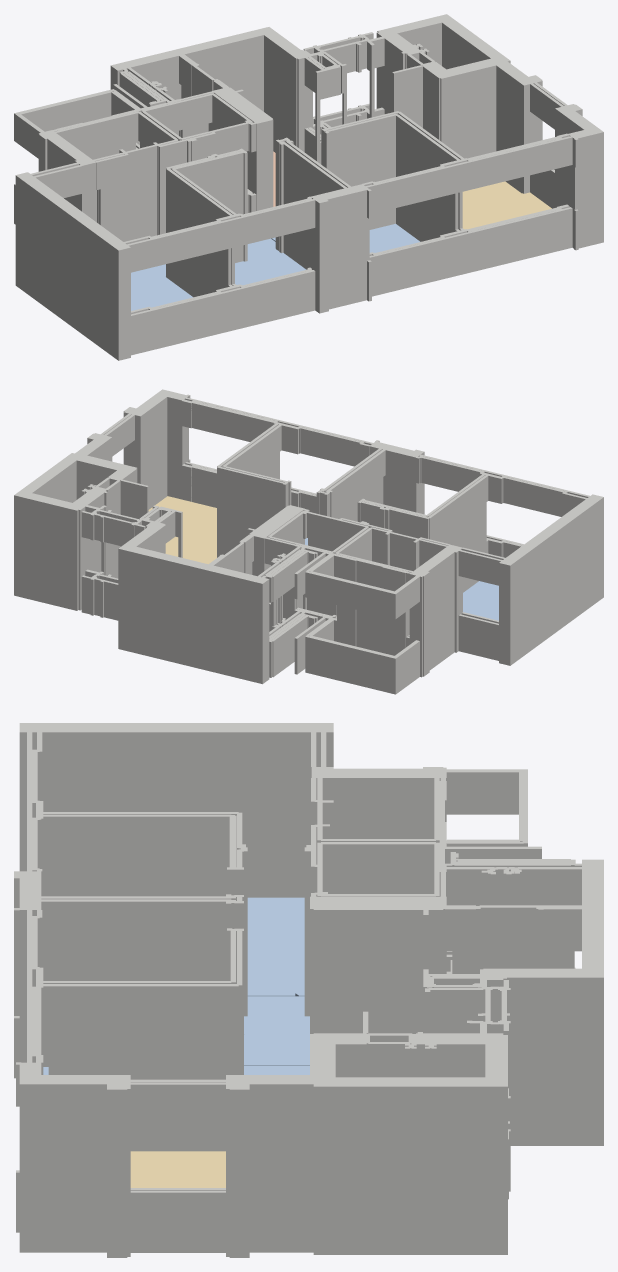
3 renders of one model, top to bottom at view 1: azimuth 30°, elevation 25°; view 2: azimuth 150°, elevation 25°; view 3: azimuth 270°, elevation 25°, orthographic. The views are drawn at different scales.
Visible parts, largest first — view 1: walls, room:living:9, room:bedroom:7, room:bedroom:3, room:bedroom:8; view 2: walls, room:living:9, room:bedroom:3; view 3: walls, room:bedroom:3, room:bedroom:7, room:living:9, room:bedroom:8.
Part boxes in pixels (<box>): walls: <box>14,14,603,360</box>; room:living:9: <box>462,181,551,229</box>; room:bedroom:7: <box>235,238,306,285</box>; room:bedroom:3: <box>131,264,192,310</box>; room:bedroom:8: <box>271,223,420,252</box>; walls: <box>14,389,603,694</box>; room:living:9: <box>148,496,216,564</box>; room:bedroom:3: <box>463,581,498,620</box>; walls: <box>14,723,603,1257</box>; room:bedroom:3: <box>247,897,304,996</box>; room:bedroom:7: <box>244,996,309,1065</box>; room:living:9: <box>130,1151,225,1187</box>; room:bedroom:8: <box>43,1065,309,1074</box>.
Size of the model in its own units: 13.09 by 2.8 by 8.9.
